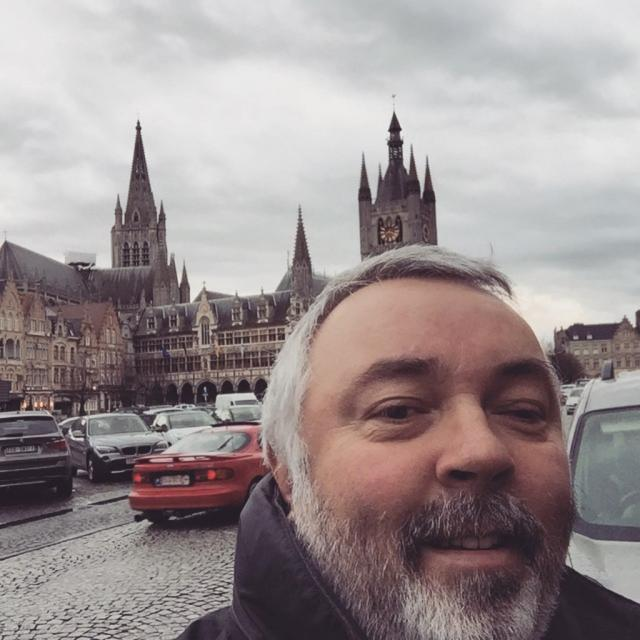Nonhelmet: (254, 240, 581, 638)
